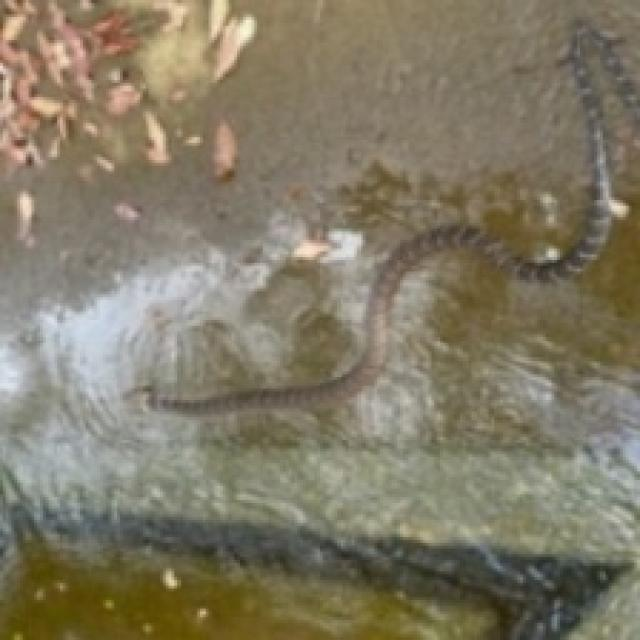king cobra: (137, 23, 637, 409)
